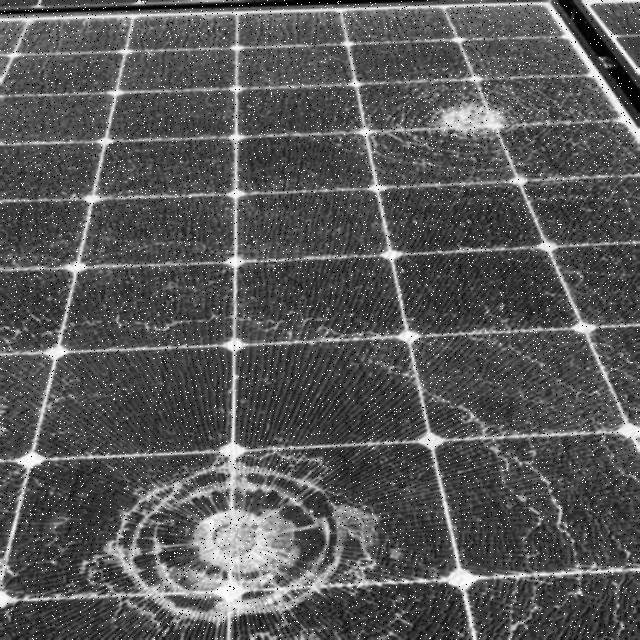physical damage: (0, 9, 639, 637)
